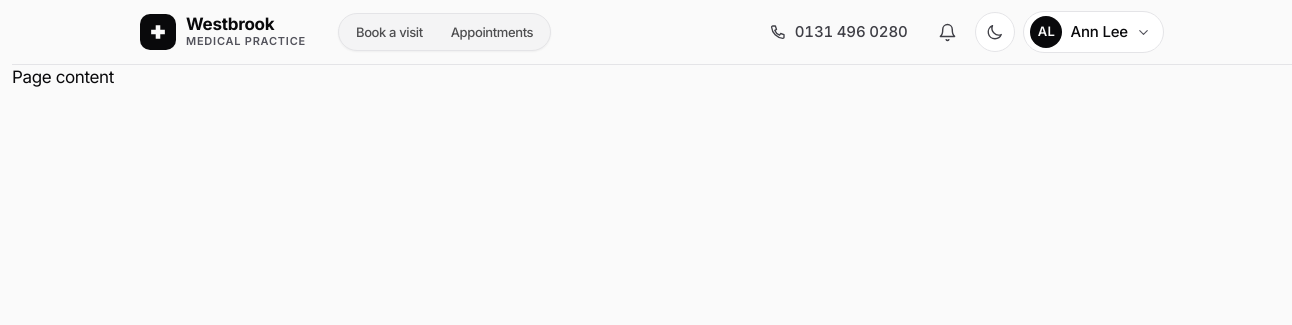
Test: SiteHeader › closes the account menu on a press outside it
Click the button with aria-label "Ann Lee, account" at [1094, 32], box 1024,11 -> 1164,53
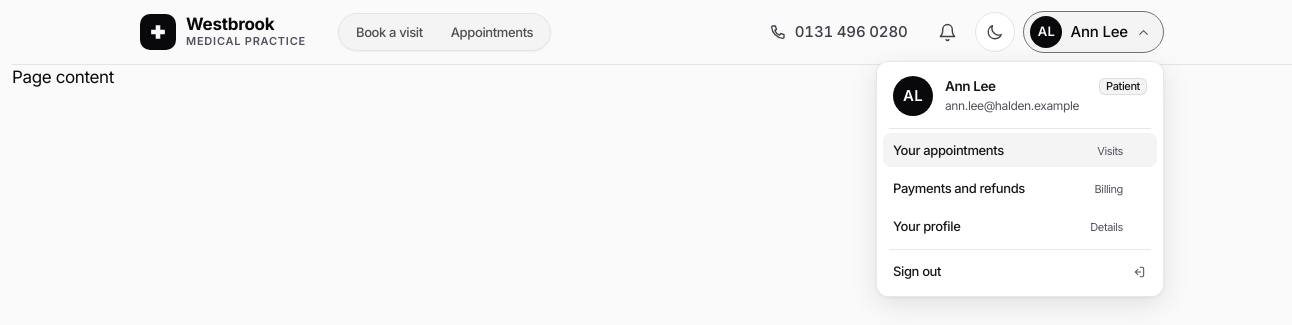
Click the text "Page content" at [63, 77], box 12,67 -> 114,87
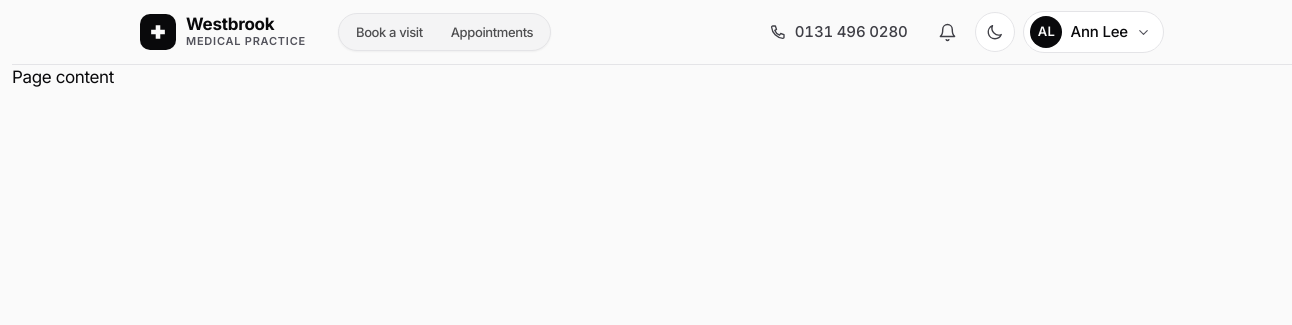
expect the button with aria-label "Ann Lee, account" is collapsed: met, box 1024,11 -> 1164,53
